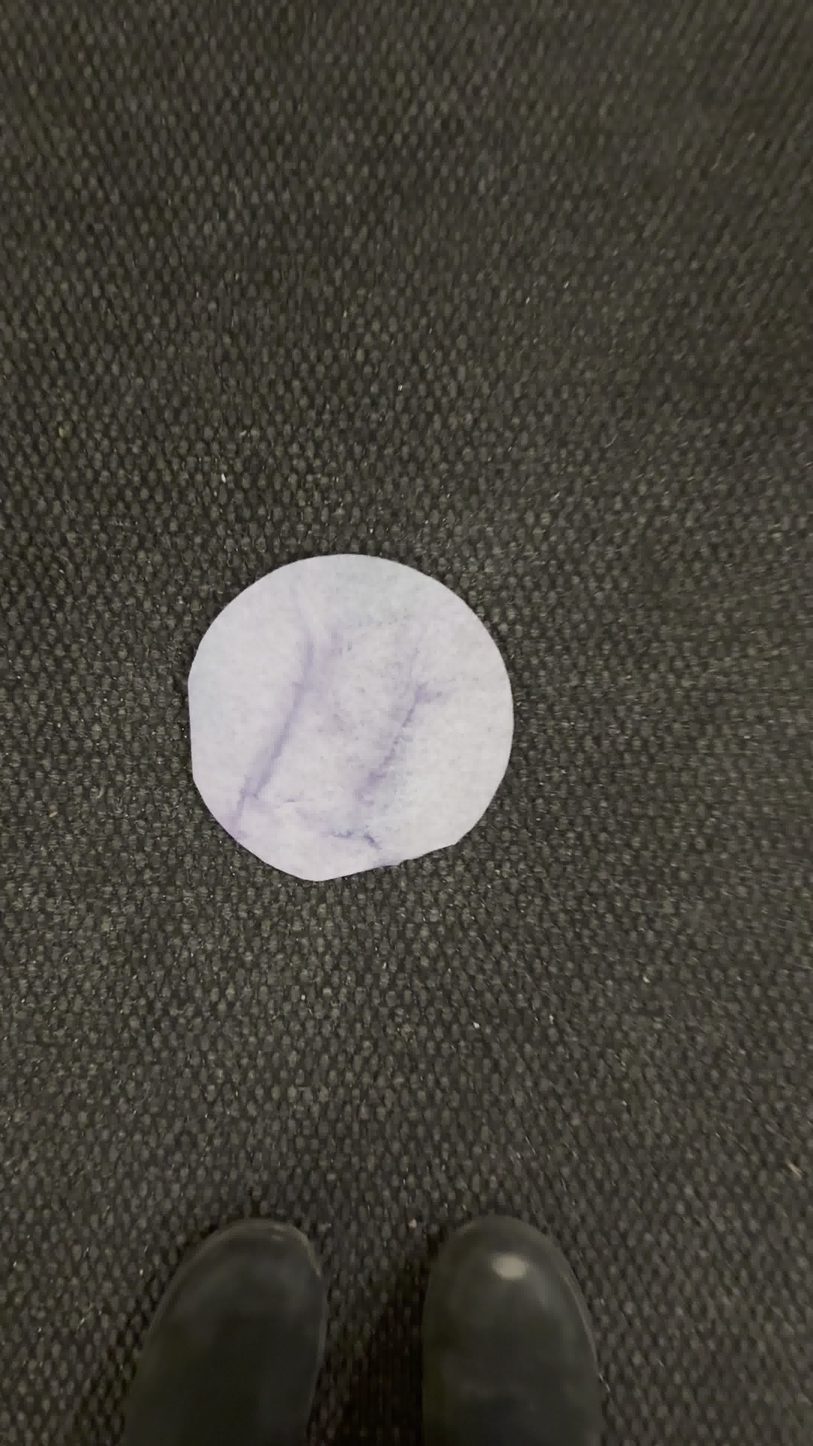Target: (182, 551, 520, 883)
